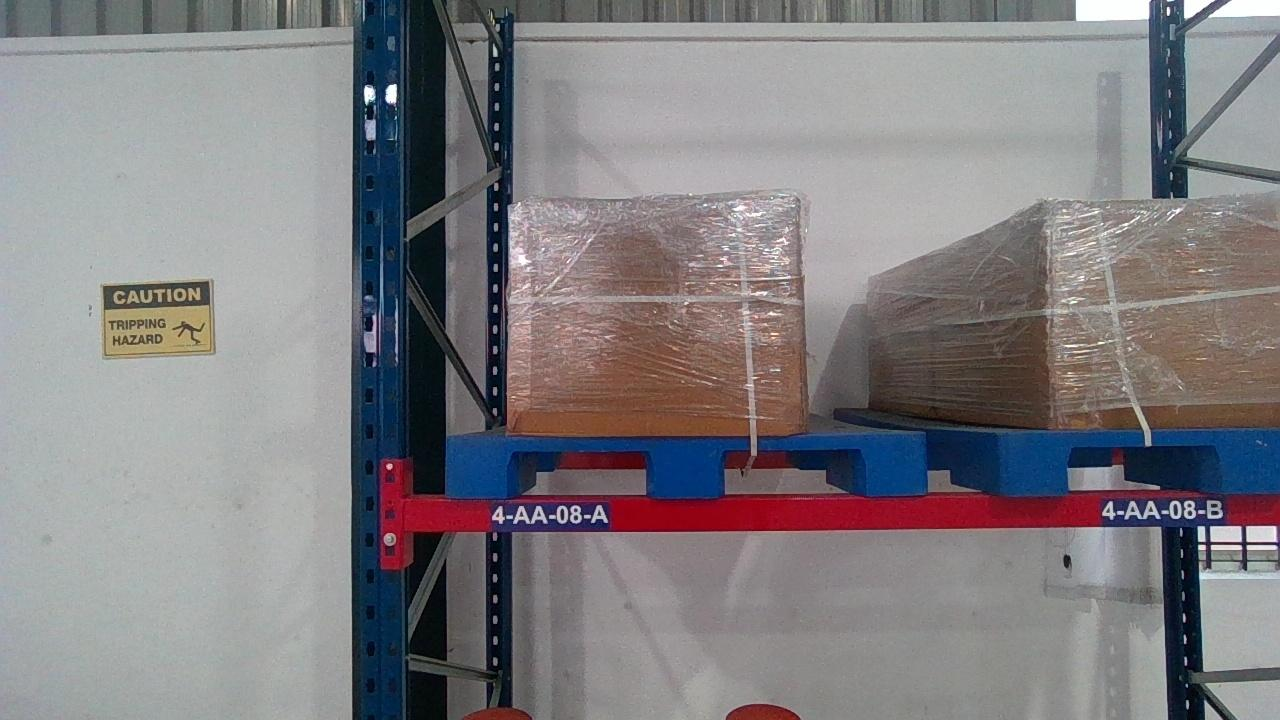h_rack: (404, 495, 1276, 531)
small_pallet: (442, 434, 931, 494), (998, 425, 1276, 495)
